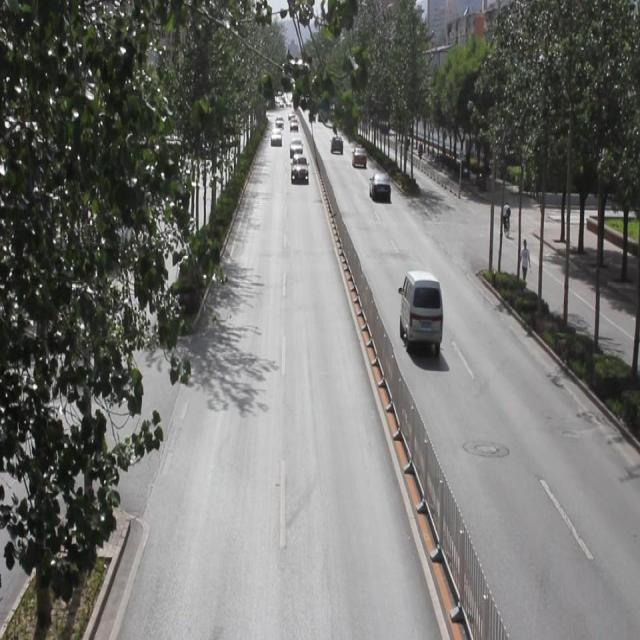car: (368, 170, 391, 202), (289, 155, 309, 183), (351, 144, 366, 168), (329, 133, 343, 156), (288, 137, 302, 159), (271, 126, 282, 146)
truck: (399, 271, 444, 351)
